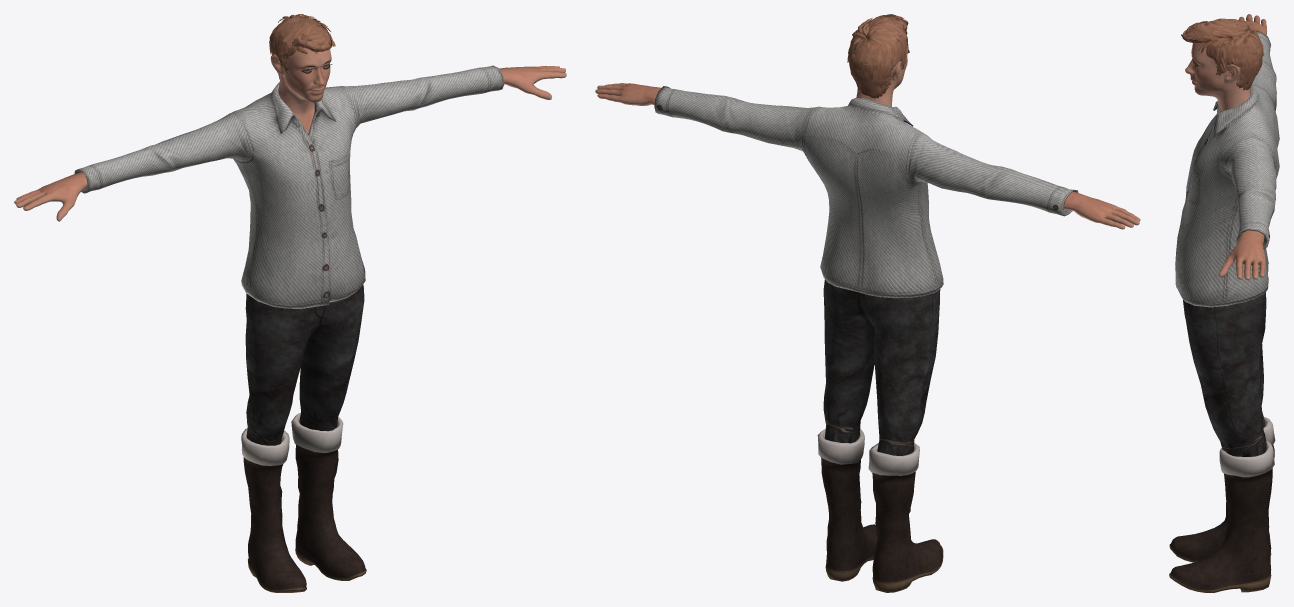
File: quitar.obj
3 renders of one model, left to right at view 1: azimuth 30°, elevation 25°; view 2: azimuth 150°, elevation 25°; view 3: azimuth 270°, elevation 25°, orthographic.
Visible parts, largest first — view 1: Tops, Bottoms, Shoes, Body, Hair; view 2: Tops, Bottoms, Shoes, Hair, Body; view 3: Tops, Bottoms, Shoes, Body, Hair.
Boxes of the visible parts, x1,y1,x2,y2 form: Tops: (74,65,504,308); Bottoms: (245,284,364,445); Shoes: (241,412,366,592); Body: (14,47,566,221); Hair: (269,14,335,79); Tops: (654,86,1078,298); Bottoms: (823,279,940,455); Shoes: (817,429,943,592); Hair: (847,14,908,98); Body: (595,46,1140,229); Tops: (1175,31,1279,307); Bottoms: (1183,291,1266,456); Shoes: (1169,417,1275,592); Body: (1185,14,1266,280); Hair: (1181,18,1263,90).
Bounding box in the file's own units: 187 × 181 × 32.73.
5 materials, 5 textured.
